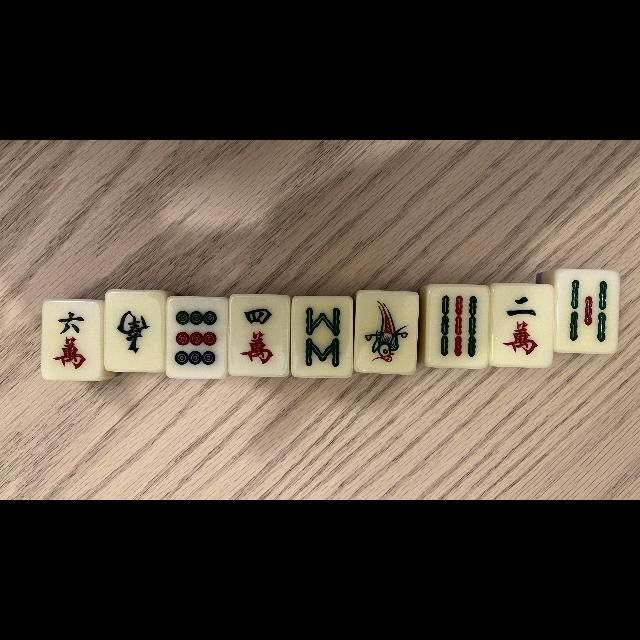b1: (358, 292, 416, 370)
b5: (558, 272, 616, 351)
b8: (294, 298, 350, 377)
b9: (429, 288, 485, 364)
c2: (495, 286, 551, 366)
c4: (230, 297, 286, 375)
c6: (44, 302, 98, 378)
d9: (168, 298, 224, 376)
ws: (107, 292, 163, 368)
